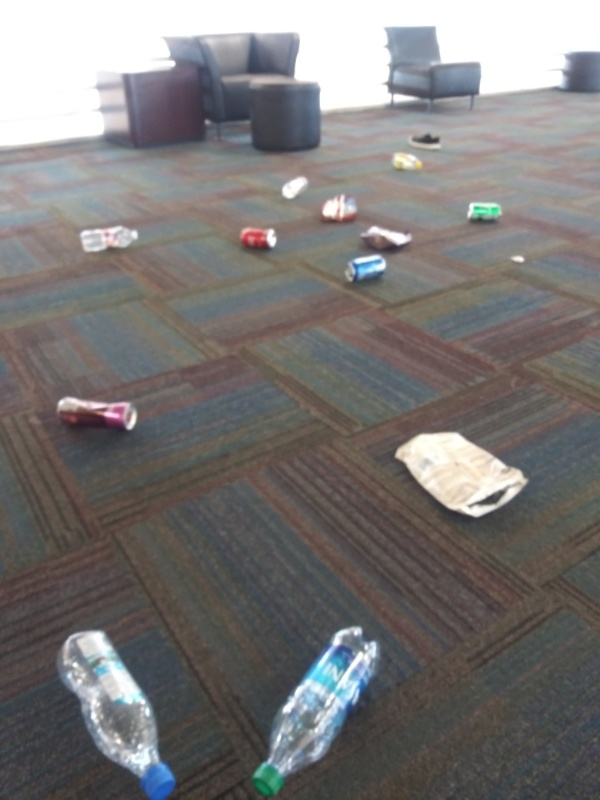bag: (389, 429, 534, 525), (354, 225, 417, 255), (317, 191, 361, 225)
bottle: (52, 629, 194, 800), (247, 620, 383, 798), (77, 222, 142, 258), (280, 172, 313, 202), (389, 147, 425, 174)
can: (51, 390, 145, 437), (343, 251, 391, 287), (233, 224, 280, 251), (464, 197, 505, 227)
